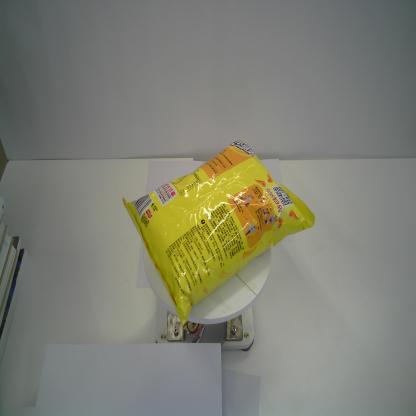Puffed Food: (120, 136, 315, 326)
